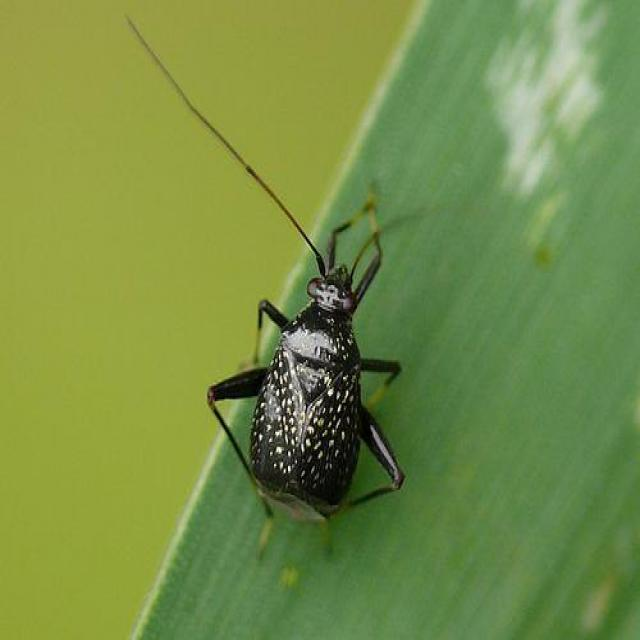Miridae-Adult-: (196, 142, 442, 547)
